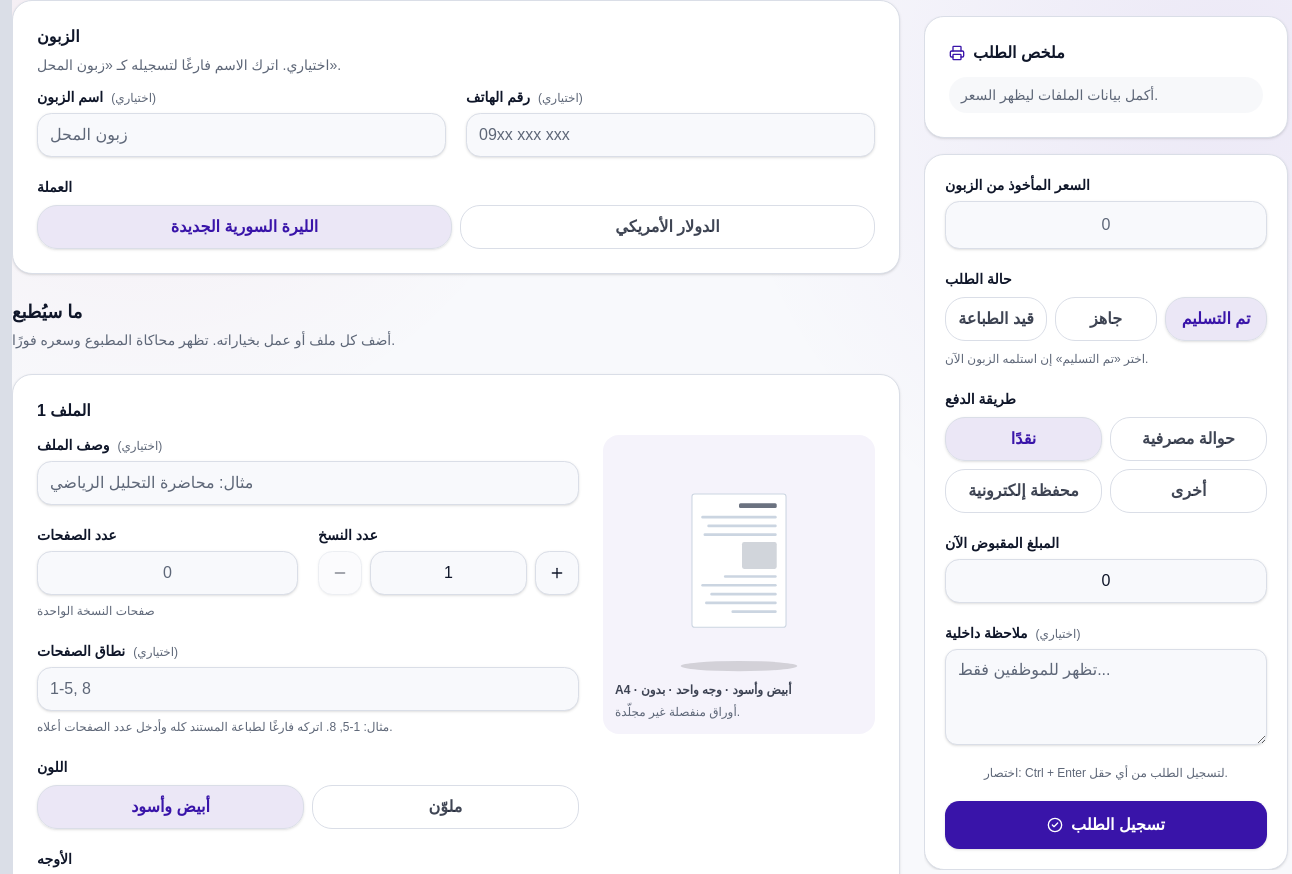
Test: counter tab › flags a descending range inline
The image size is (1292, 874).
Step 1. Type "8,1-3" into the field labelled "نطاق الصفحات (اختياري)" → (308, 689), box [37,667,579,711]
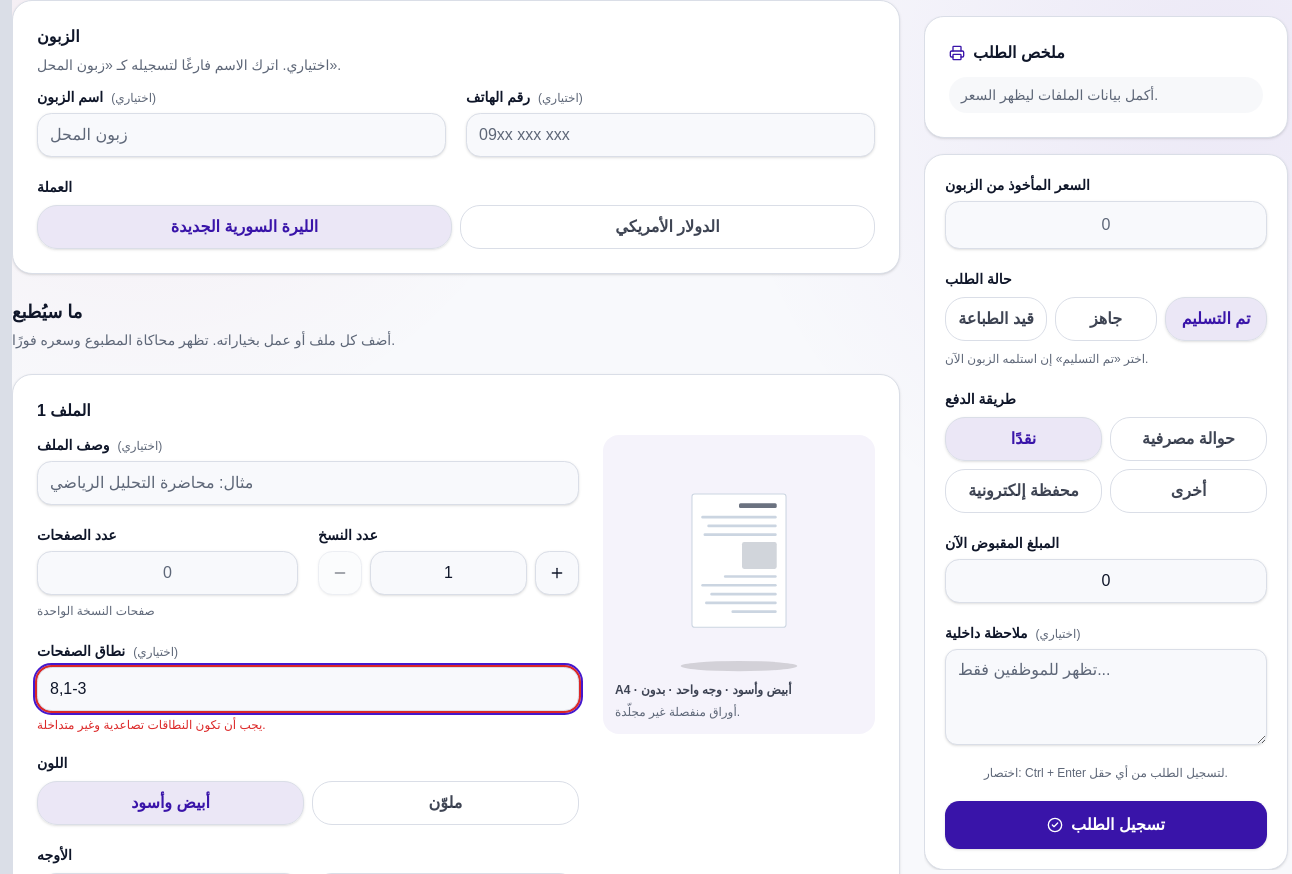
Check: the text "يجب أن تكون النطاقات تصاعدية وغير متداخلة." is shown, box [37,718,266,732]
